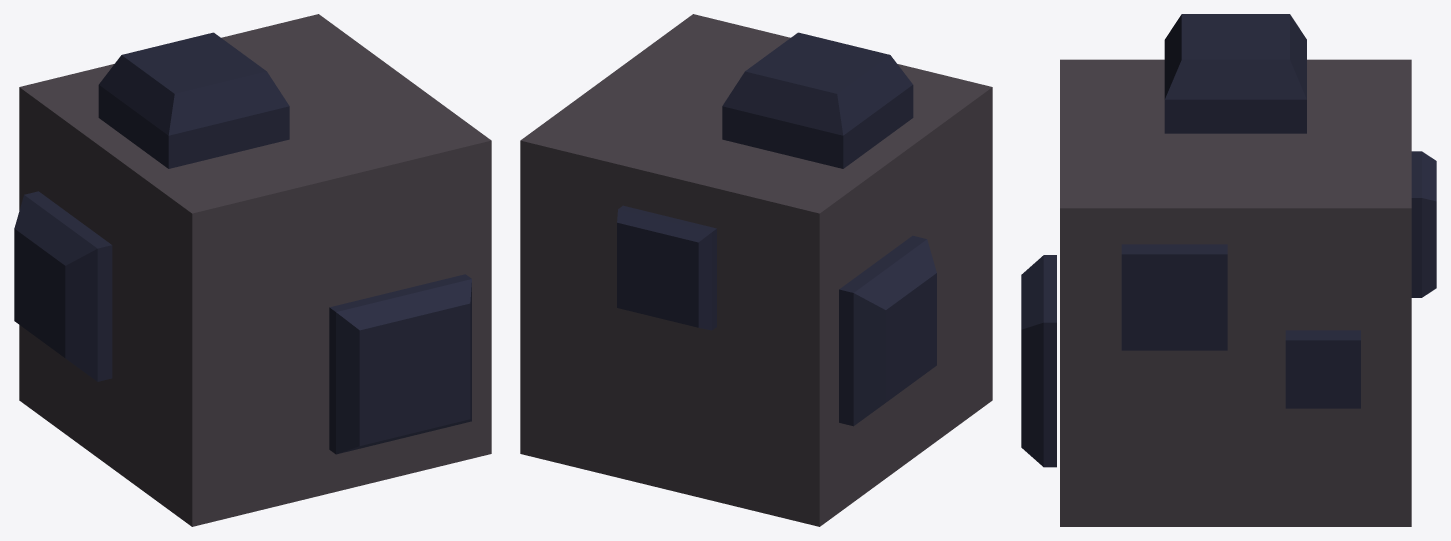
File: SmallChan.fbx
3 views of the same model, side by side, from view 1: azimuth 30°, elevation 25°; view 2: azimuth 150°, elevation 25°; view 3: azimuth 270°, elevation 25° (orthographic).
Visible parts, largest first — view 1: Cube.055; view 2: Cube.055; view 3: Cube.055.
Boxes of the visible parts, x1=… form: Cube.055: x1=14, y1=14, x2=491, y2=526; Cube.055: x1=520, y1=14, x2=992, y2=526; Cube.055: x1=1021, y1=14, x2=1436, y2=526.
Size of the model in its own units: 0.952 by 0.9669 by 0.9444.
